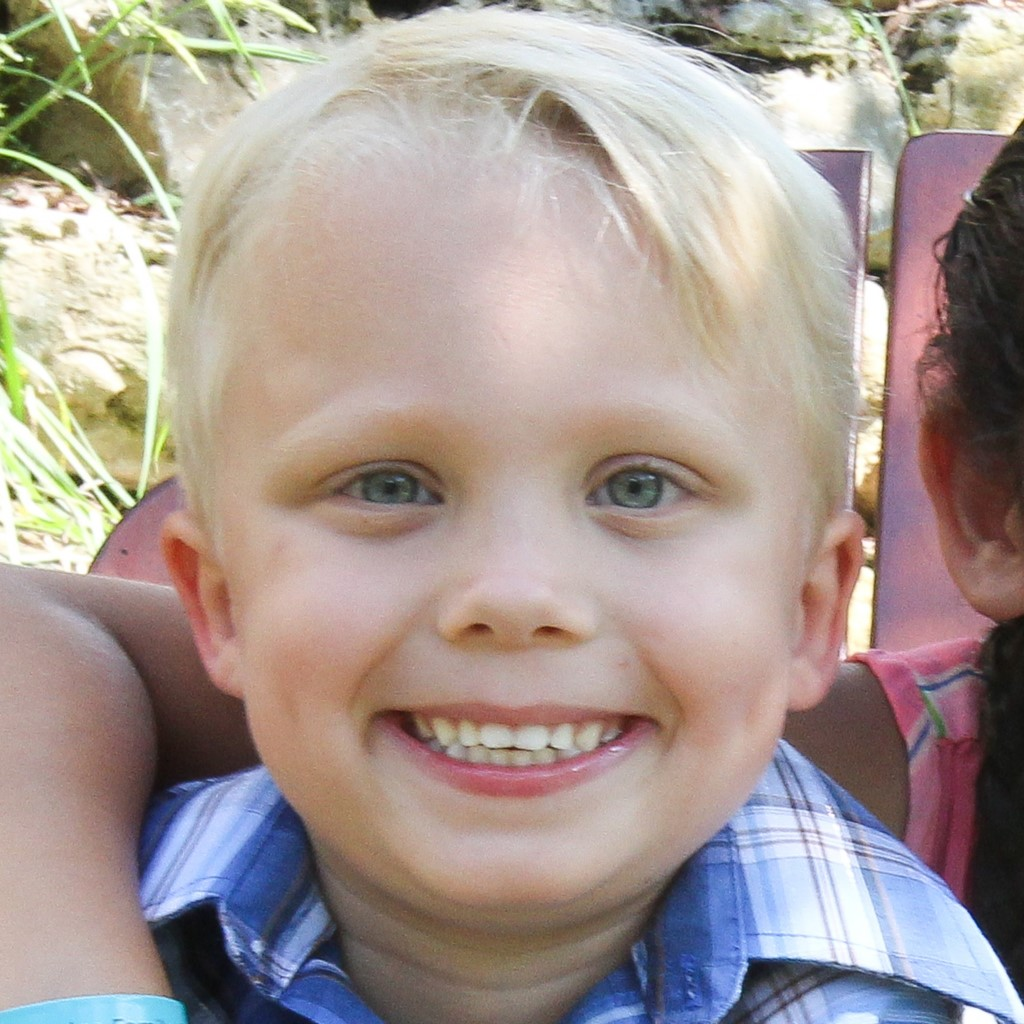sin_mascara: (222, 121, 791, 906)
